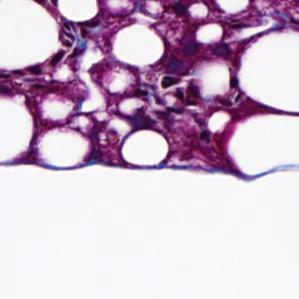inflammation: (158, 35, 204, 91), (111, 102, 162, 134), (26, 48, 78, 76), (164, 0, 199, 25)
